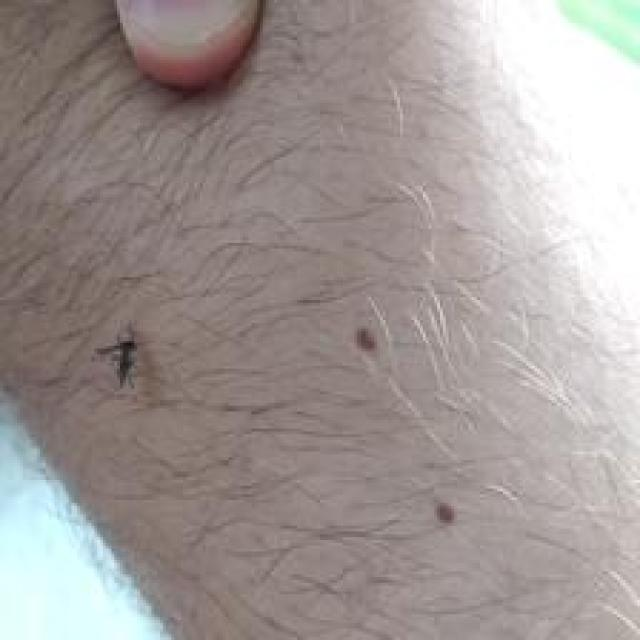Aedes albopictus: (96, 324, 141, 390)
